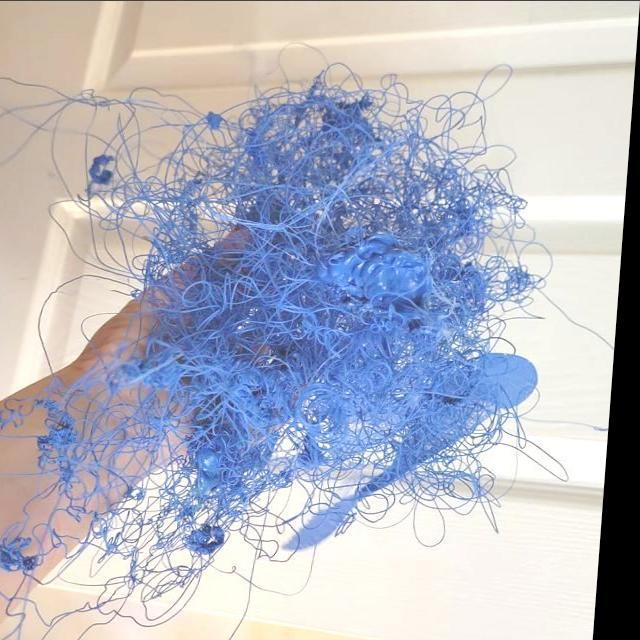spaghetti: (150, 264, 332, 452), (338, 88, 500, 212), (387, 377, 516, 519), (216, 105, 351, 239), (73, 152, 211, 263), (123, 440, 244, 564), (398, 253, 556, 329), (32, 80, 217, 129), (38, 408, 121, 510), (121, 544, 204, 625), (1, 513, 63, 596), (406, 210, 501, 264)
